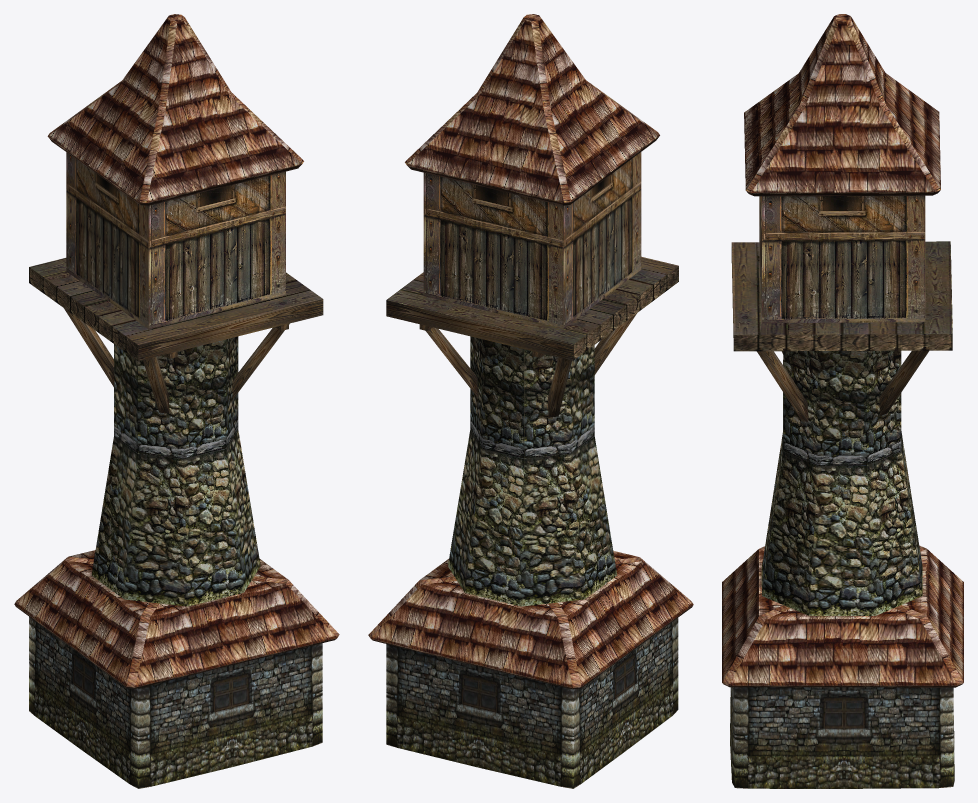
The model's file is loc2_09.glb.
3 renders of one model, left to right at view 1: azimuth 30°, elevation 25°; view 2: azimuth 150°, elevation 25°; view 3: azimuth 270°, elevation 25°, orthographic. The views are drawn at different scales.
Parts seen in each view (by area): view 1: loc2_09-col; view 2: loc2_09-col; view 3: loc2_09-col.
Part boxes in pixels (x1,y1,x2,y2): loc2_09-col: (14,14,339,788); loc2_09-col: (368,14,693,788); loc2_09-col: (722,14,963,788).
Size of the model in its own units: 6.87 by 21.87 by 6.62.
3 materials, 3 textured.
